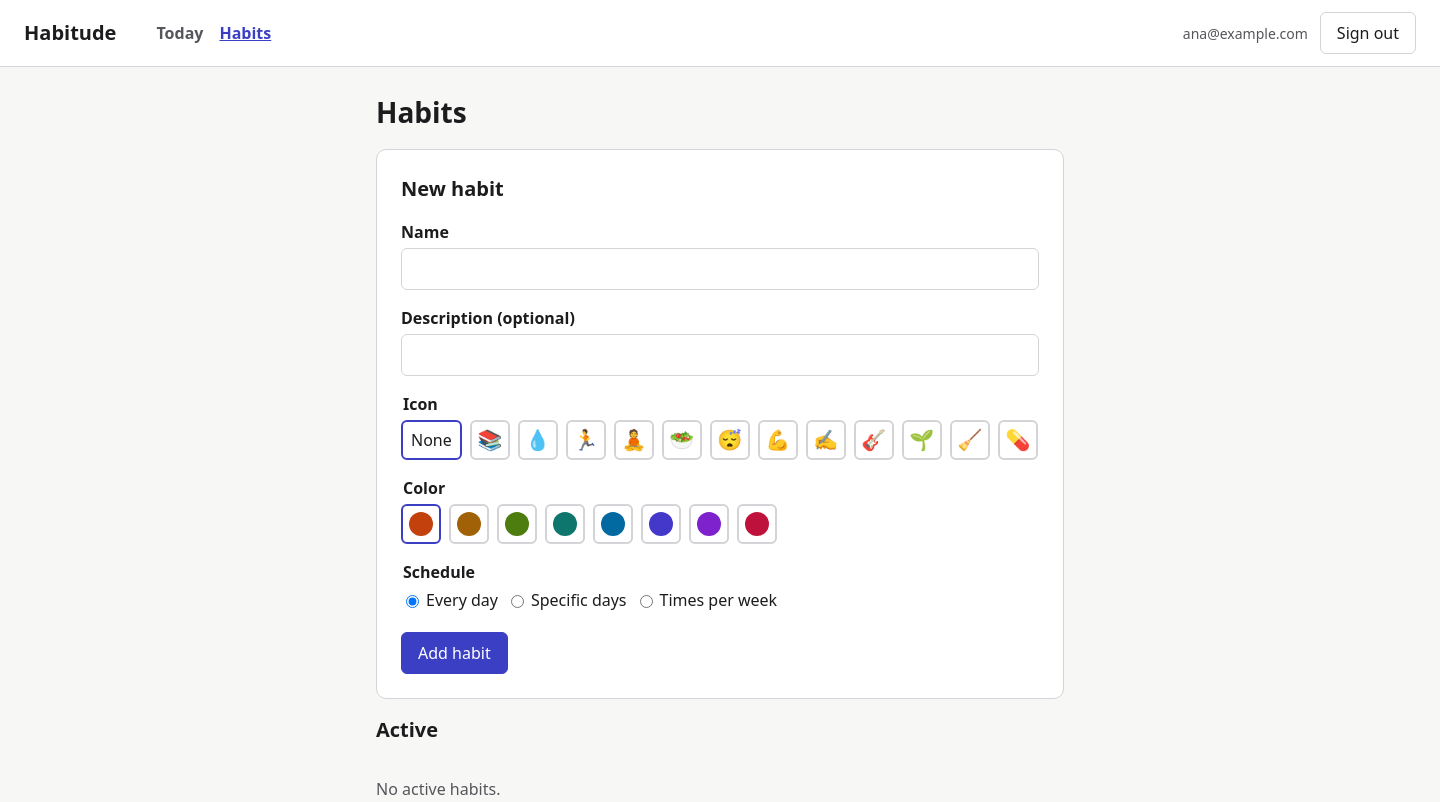
Test case: spec 005 - Habit schedules › US2-S2: specific days with none selected shows an error and saves nothing
Type "Gym" into the field labelled "Name" at x=720, y=269, box [401,248,1039,290]
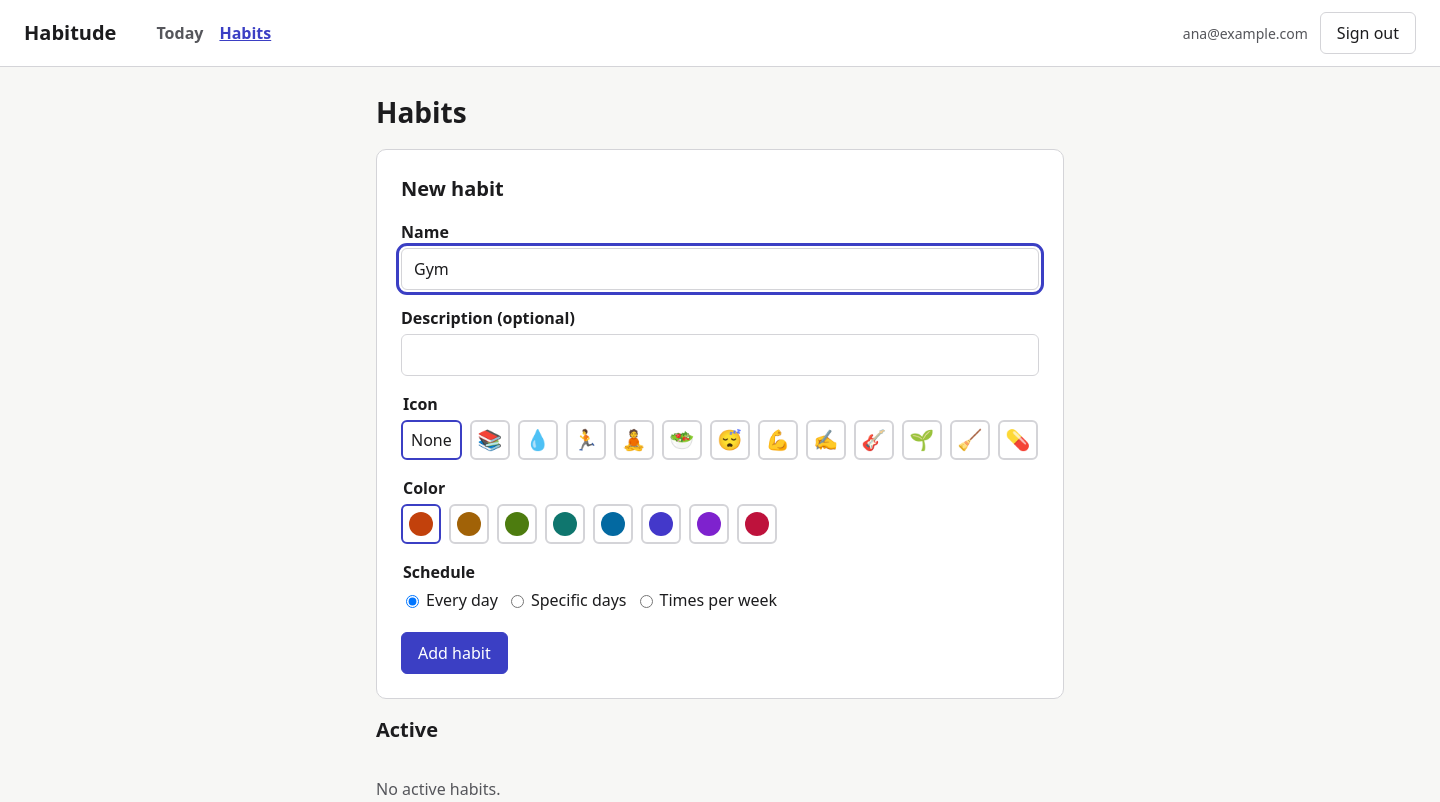
Click the radio button labelled "Specific days" at x=518, y=602, box [511,595,524,608]
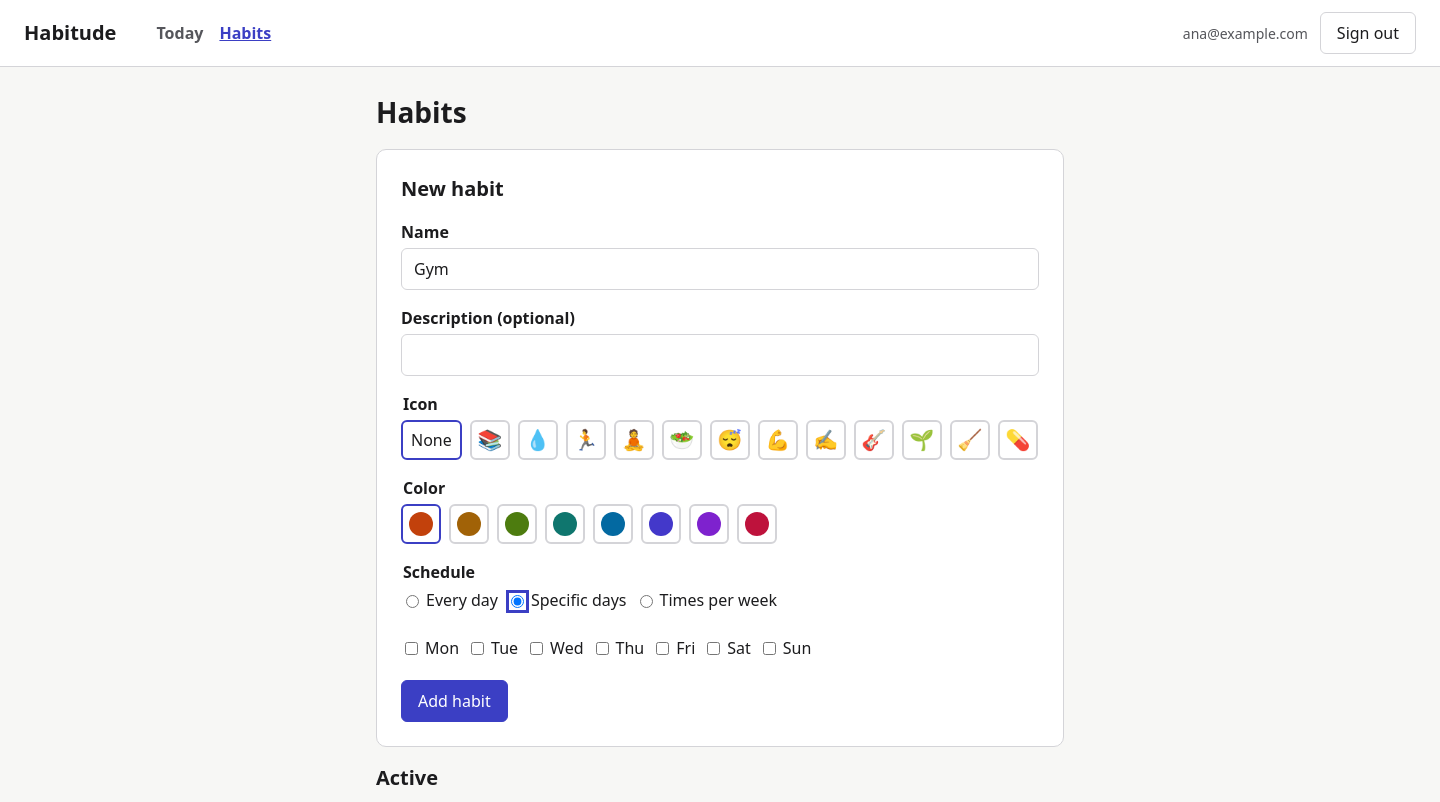
Click the button "Add habit" at x=454, y=701, box [401,680,508,722]
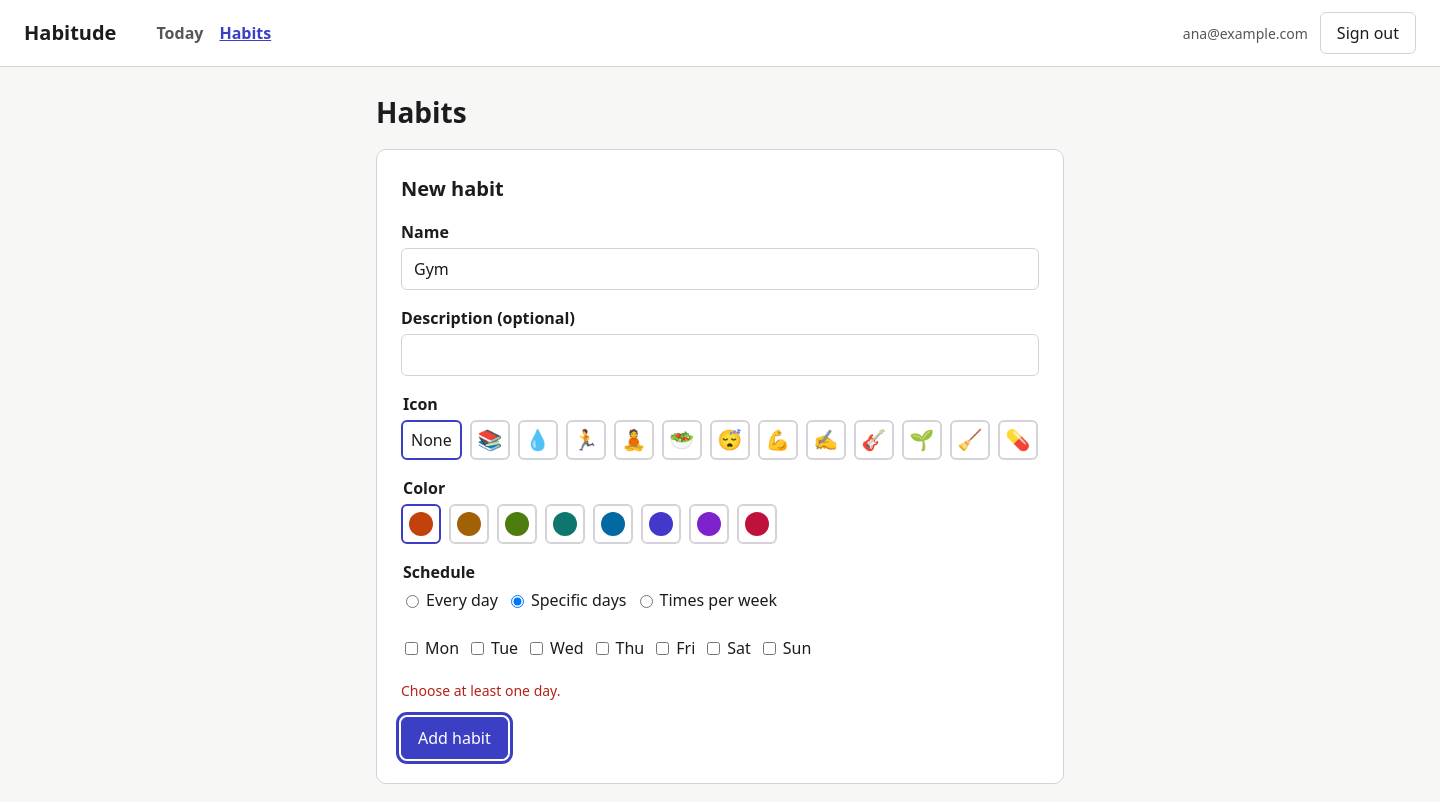
Expected: the text "Choose at least one day." is shown, [401,681,560,700]
